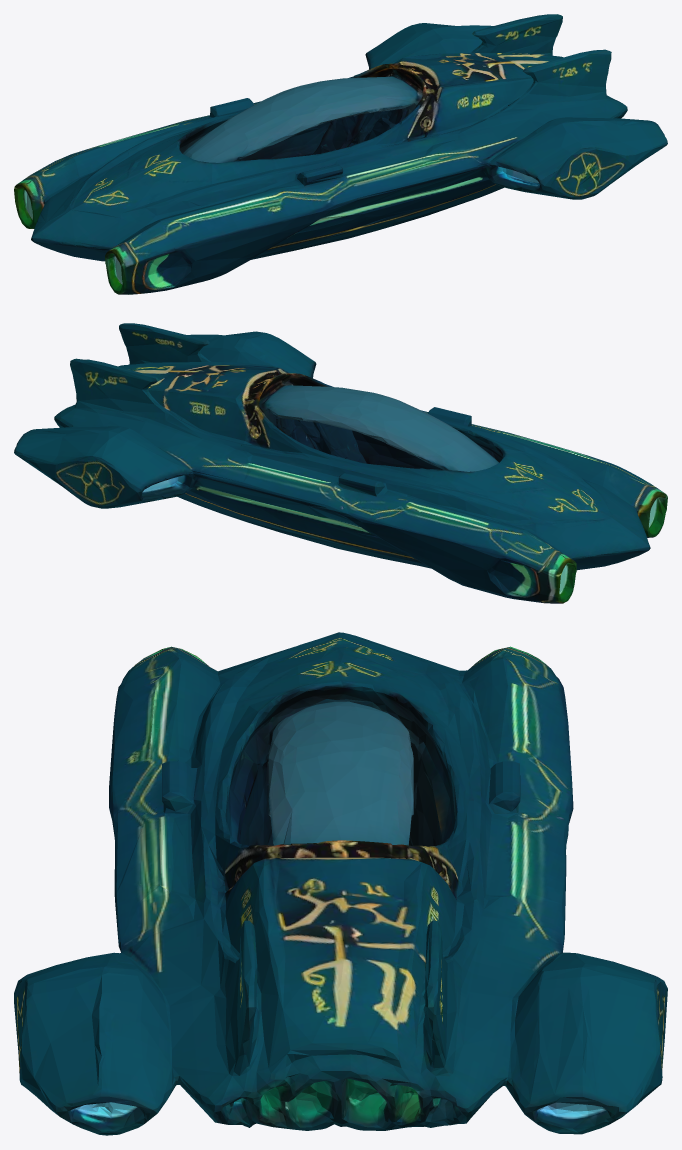
Rendered from veh-skiff.glb.
3 views of the same model, one above another, from view 1: azimuth 30°, elevation 25°; view 2: azimuth 150°, elevation 25°; view 3: azimuth 270°, elevation 25° (orthographic). The views are drawn at different scales.
Visible parts, largest first — view 1: material; view 2: material; view 3: material.
Boxes of the visible parts, x1=… form: material: x1=14, y1=14, x2=667, y2=294; material: x1=14, y1=323, x2=667, y2=603; material: x1=14, y1=632, x2=667, y2=1135.
Size of the model in its own units: 1.09 by 0.2229 by 0.5949.
1 material, 1 textured.
